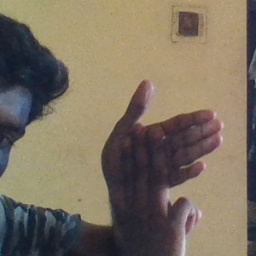M: (98, 76, 228, 234)
